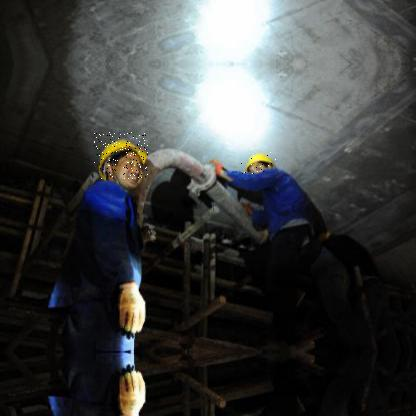safetyhelmet: (94, 132, 149, 180), (239, 150, 280, 178)
